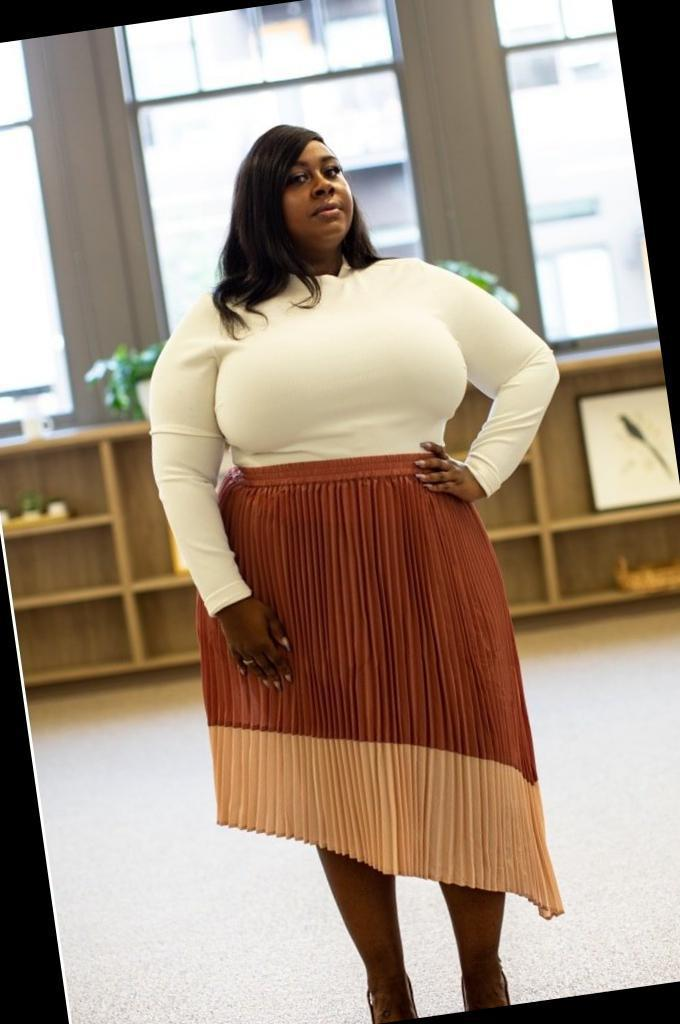Sober: (277, 134, 352, 235)
